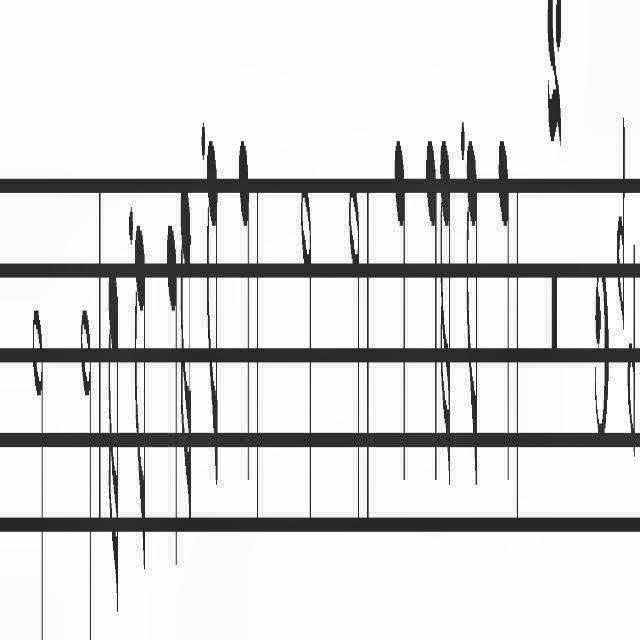Bemol: (615, 101, 625, 343), (628, 222, 636, 468)
Eighth-note: (205, 129, 219, 499), (466, 135, 478, 498), (134, 226, 146, 578)
Half-note: (300, 182, 312, 534), (348, 182, 360, 532), (80, 296, 92, 640), (32, 296, 44, 640)
Quarter-note: (237, 132, 251, 492), (426, 132, 438, 498), (498, 132, 510, 496), (166, 222, 178, 582), (394, 132, 406, 488)
Sixteenth-note: (440, 132, 452, 496), (108, 260, 120, 622), (180, 178, 192, 536)
